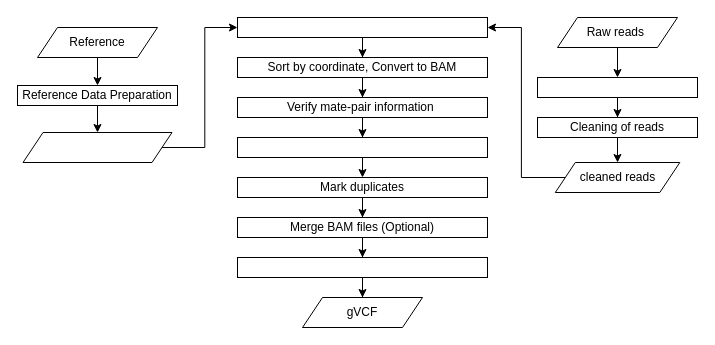
Some shapes in this 715 by 345 pixel diagram are drawn without their labels. Each missing label, with the centre of its shape:
"Add read group information" belongs at [362,147].
"Map to reference" belongs at [362,27].
"Quality check of reads" belongs at [617,87].
"Reference + index" belongs at [97,147].
"Variant Calling" belongs at [362,267].
